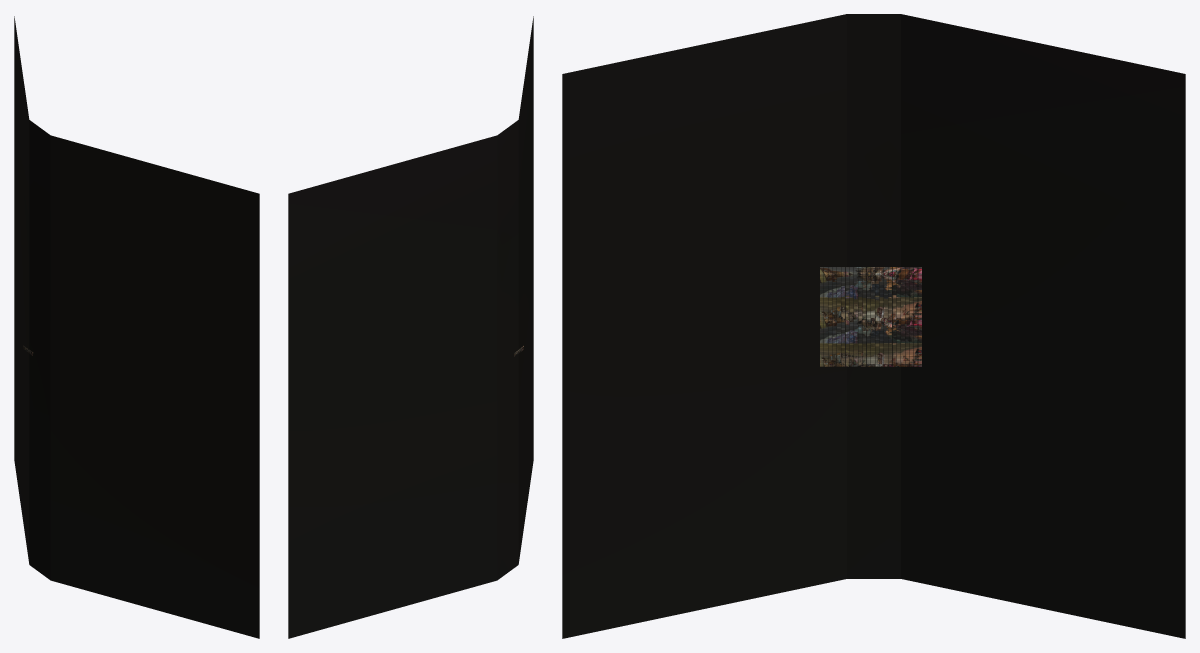
Rendered from updateViz12_front.glb.
3 renders of one model, left to right at view 1: azimuth 30°, elevation 25°; view 2: azimuth 150°, elevation 25°; view 3: azimuth 270°, elevation 25°, orthographic. The views are drawn at different scales.
Visible parts, largest first — view 1: objects; view 2: objects; view 3: objects.
Boxes of the visible parts, x1,y1,x2,y2 form: objects: (14,16,259,638); objects: (288,16,533,638); objects: (562,14,1185,638).
Bounding box in the file's own units: 264 × 1035 × 1035.
1 material, 1 textured.
